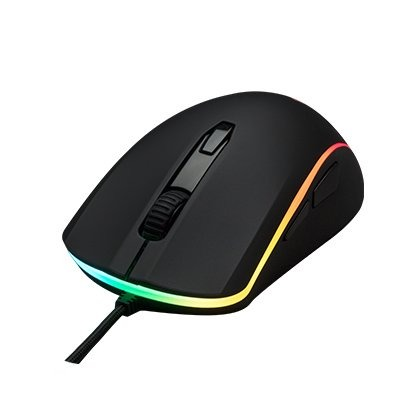mouse: (58, 87, 370, 328)
